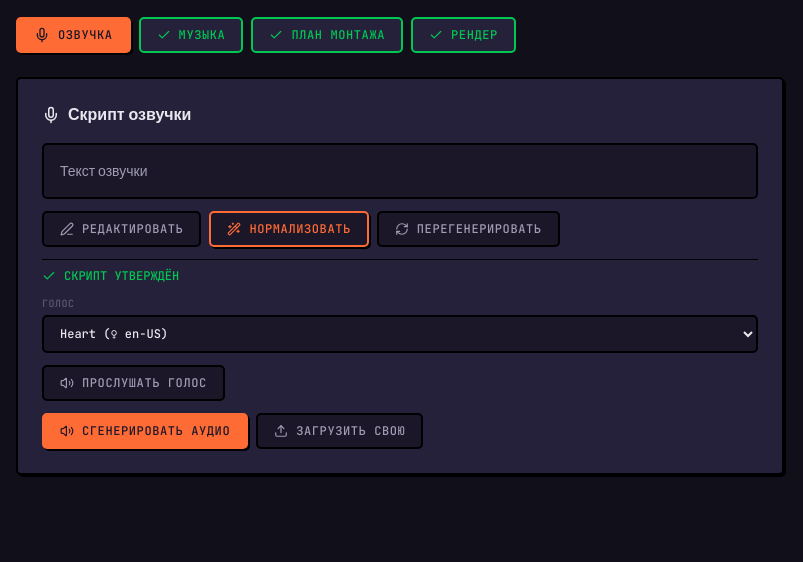
MontageView semantic planning panel › renders editor-first export step without legacy render buttons
The image size is (803, 562).
Click the button "Рендер".
click(463, 35)  # box [411, 17, 516, 53]
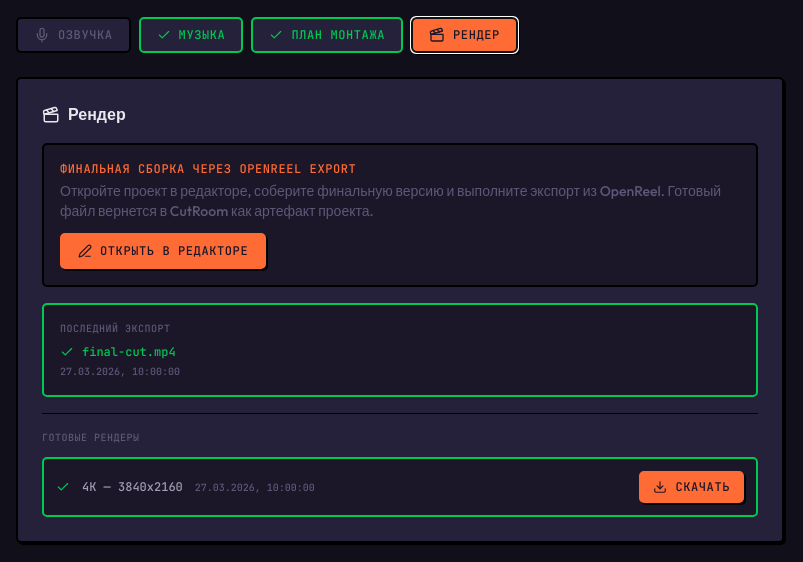
Result: the text "Финальная сборка через OpenReel Export" is shown at [60, 161, 356, 177]
Result: the text "Откройте проект в редакторе" is shown at [60, 182, 721, 220]
Result: the button "Открыть в редакторе" is shown at [60, 233, 266, 269]
